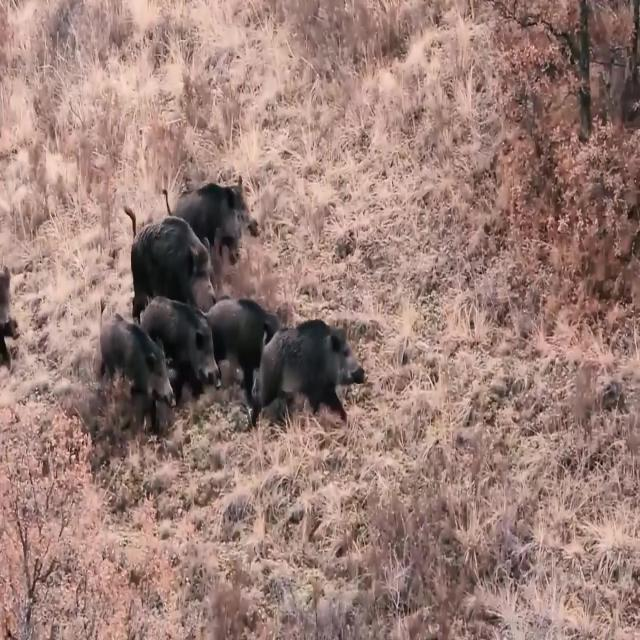pig: (92, 290, 174, 432), (250, 320, 342, 443), (144, 279, 230, 393), (132, 192, 214, 306), (182, 156, 246, 236)
